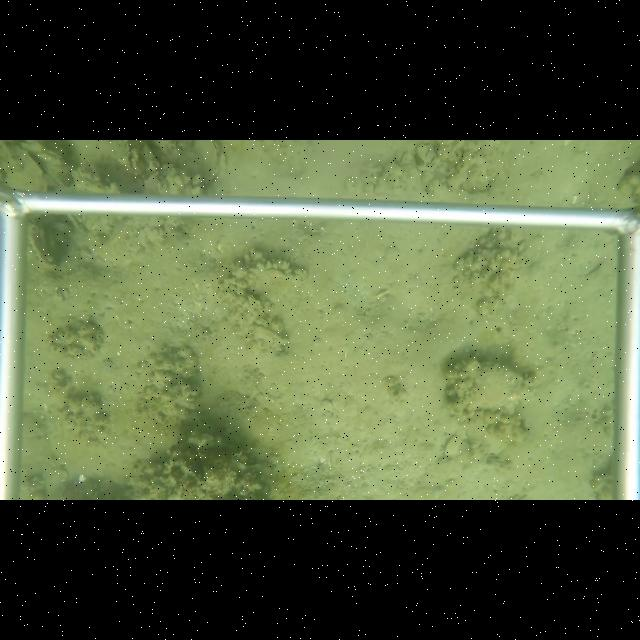Oyster-Closed: (447, 355, 526, 413), (28, 220, 61, 270)
